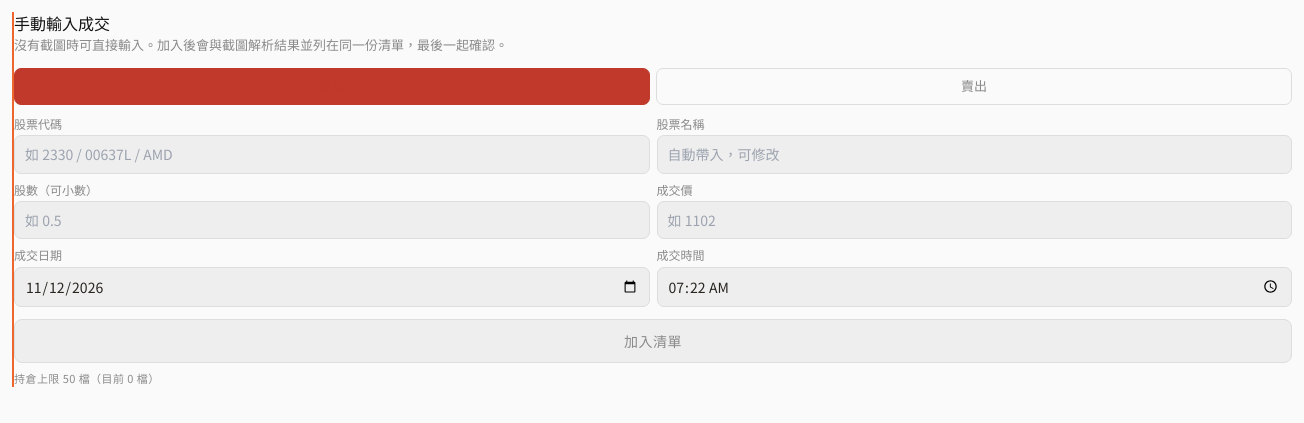
Test: B — 手動名稱 vs 晚到 resolver › resolver 成功且名稱欄位為空、使用者未編輯 → 仍照常自動帶入
This screenshot has width=1304, height=423.
Type "2330" into the field named "股票代碼" at (332, 154), box [14, 135, 650, 174]
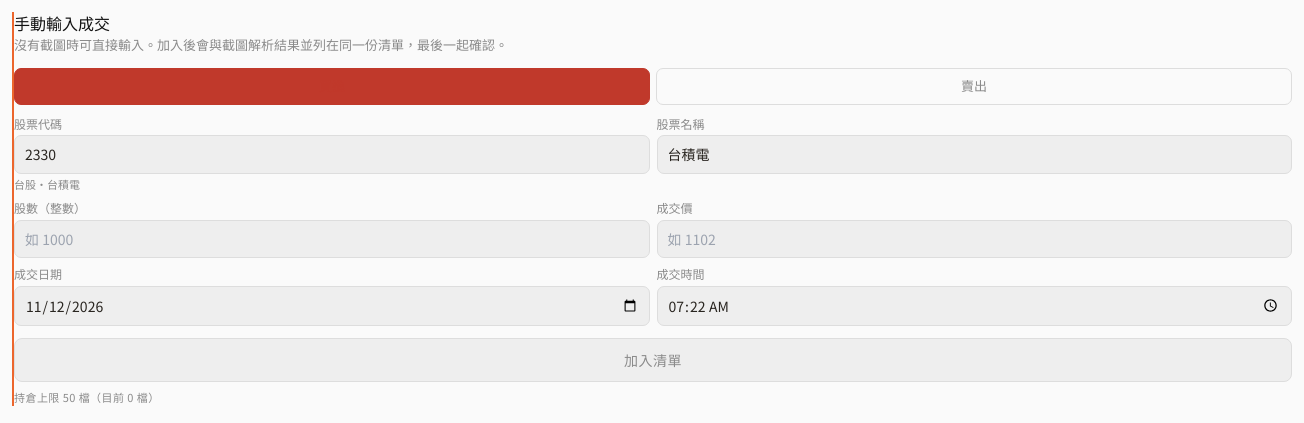
Result: the field named "股票名稱" holds "台積電" at [656, 135, 1292, 174]
